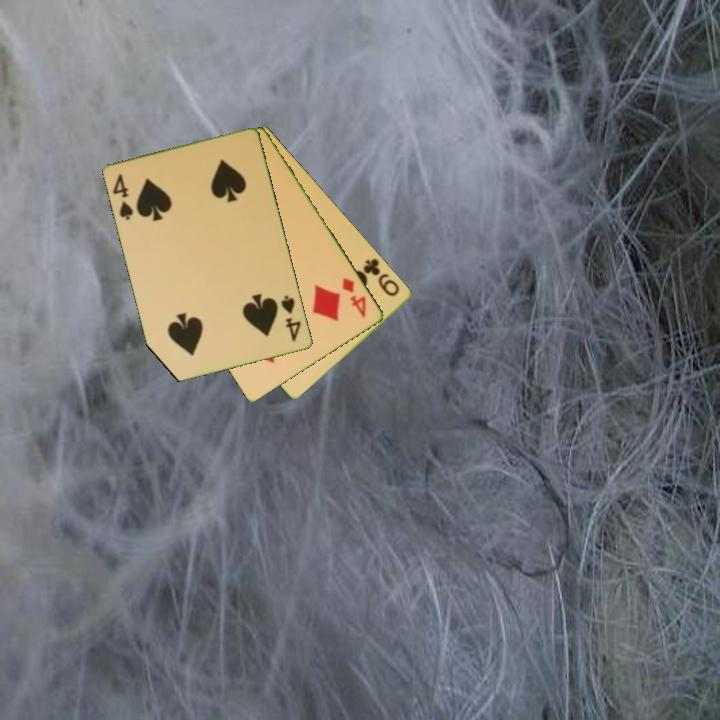4d: (339, 274, 369, 320)
4s: (278, 292, 304, 345), (110, 170, 136, 223)
9c: (360, 255, 403, 300)
